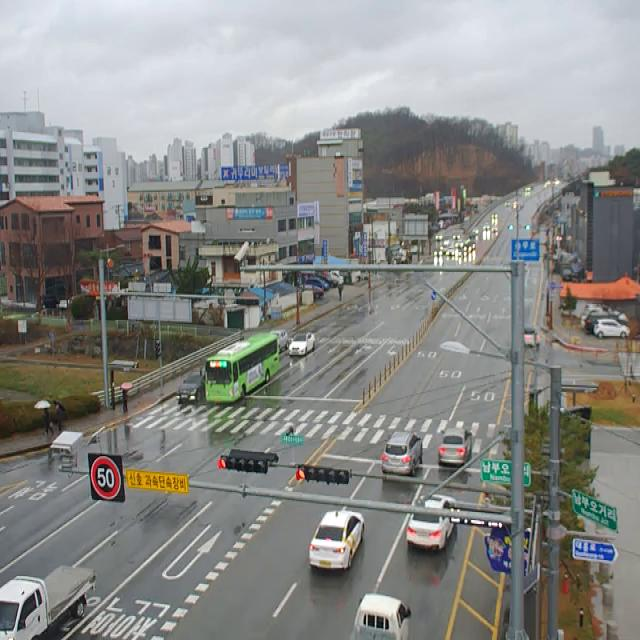Bus: (200, 333, 280, 402)
Car: (0, 564, 96, 640), (310, 511, 364, 569), (350, 594, 412, 640), (407, 494, 457, 548), (382, 432, 423, 475), (438, 429, 472, 466), (581, 305, 629, 328), (585, 310, 627, 332), (176, 371, 205, 401), (594, 319, 630, 339), (289, 332, 315, 356), (270, 330, 288, 352), (524, 327, 540, 350), (446, 246, 455, 256), (463, 244, 472, 253), (433, 250, 443, 258), (458, 250, 468, 258), (452, 232, 461, 240), (455, 240, 464, 248), (469, 241, 476, 250), (436, 233, 443, 241), (443, 239, 450, 247)
